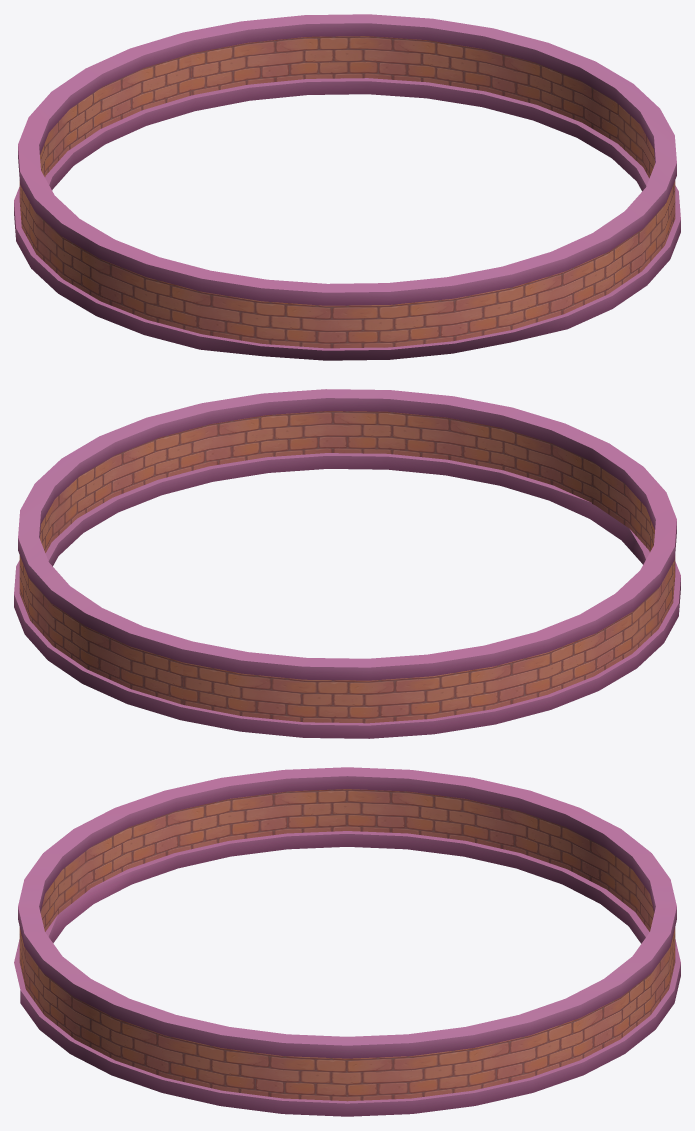
Rendered from GameWalls.glb.
The picture shows the model from 3 angles, top to bottom: view 1: azimuth 30°, elevation 25°; view 2: azimuth 150°, elevation 25°; view 3: azimuth 270°, elevation 25°; orthographic projection.
Visible parts, largest first — view 1: GameWalls; view 2: GameWalls; view 3: GameWalls.
Boxes of the visible parts, bbox=[...] form: GameWalls: bbox=[14, 14, 680, 360]; GameWalls: bbox=[14, 389, 680, 738]; GameWalls: bbox=[14, 767, 680, 1116].
Size of what is drawn, in the model's own units: 29.96 by 3.44 by 29.96.
2 materials, 2 textured.
